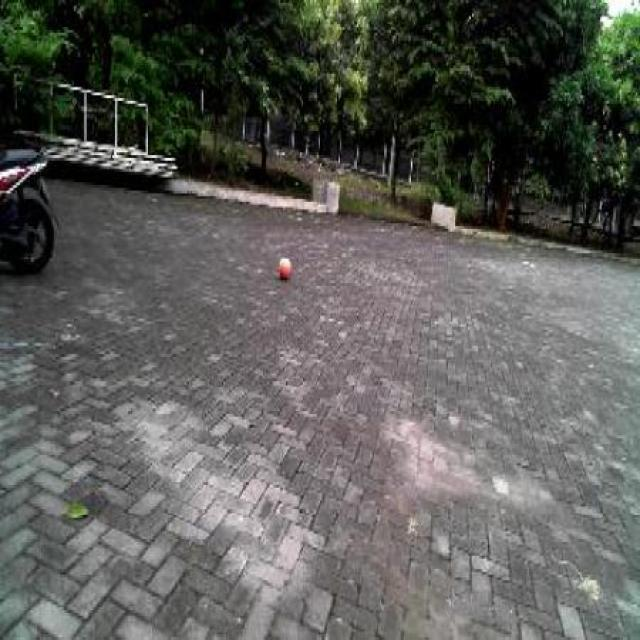buoy: (277, 249, 292, 281)
